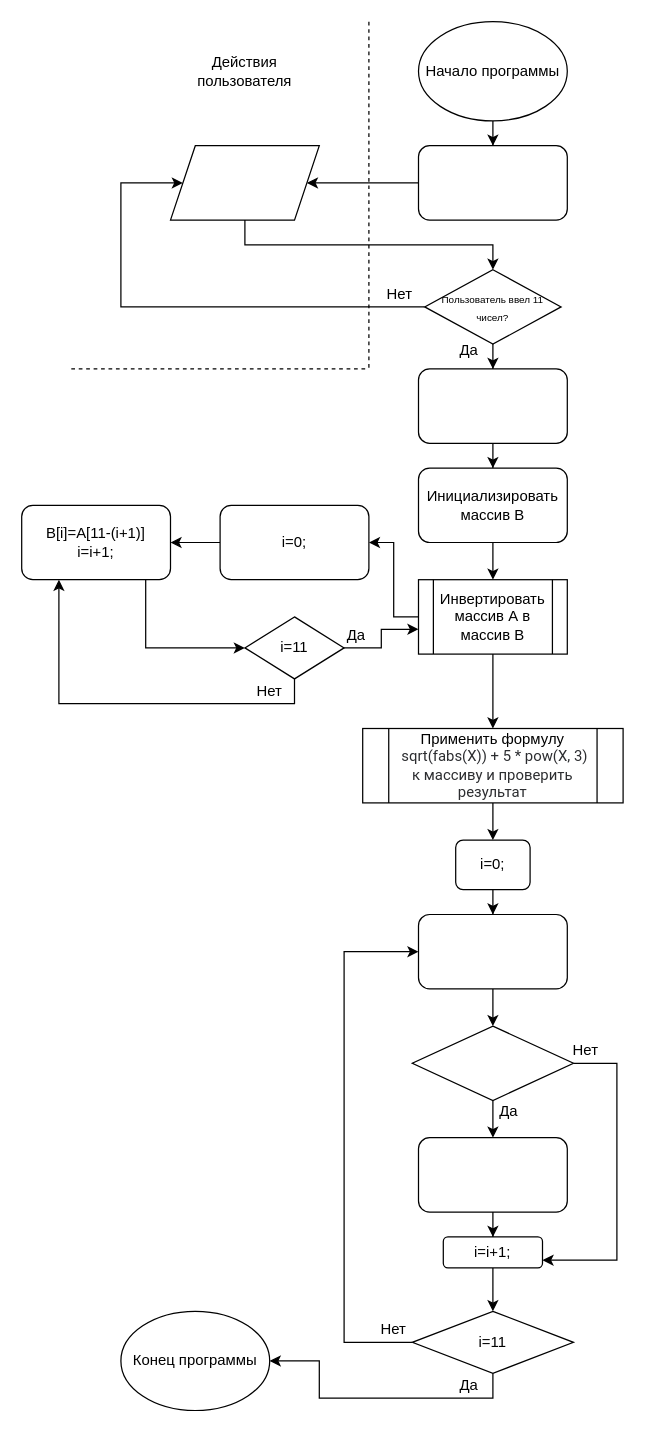
This 649x1432 diagram has some shape labels left out. The shapes that lost their labels are listed below. From the top down, each one's box as (x1, y1, x2, y2) in pixels, then its label:
(169, 144, 319, 220): Ввод числа пользователем
(417, 144, 567, 220): Запрос у пользователя 11 чисел
(417, 368, 567, 443): Создать массив А из введенных чисел
(417, 913, 567, 989): B[i]=X; sqrt(fabs( X )) + 5 * pow( X , 3)
(411, 1025, 574, 1100): Результат > 400
(417, 1136, 567, 1212): Вывести уведомлению пользователю
